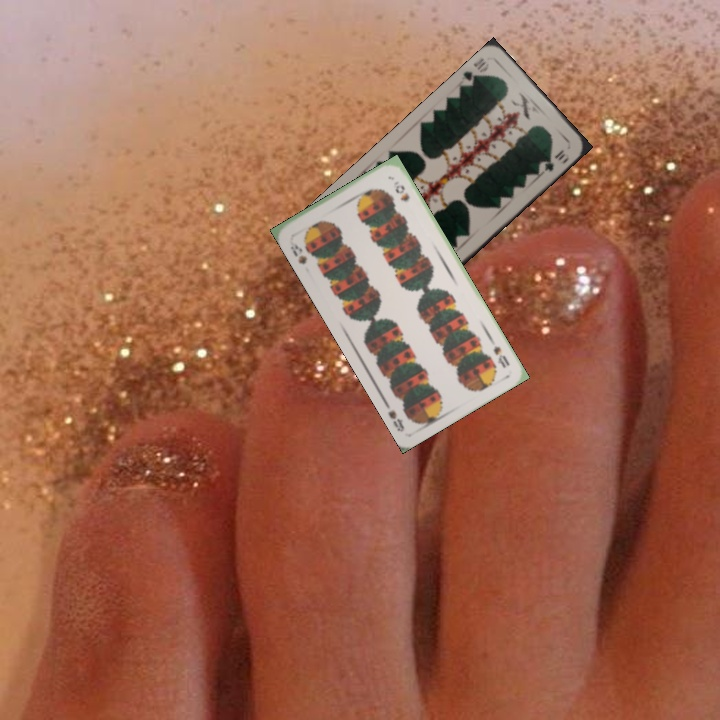G10: (459, 54, 492, 89)
S8: (486, 334, 512, 370), (286, 236, 310, 267)
